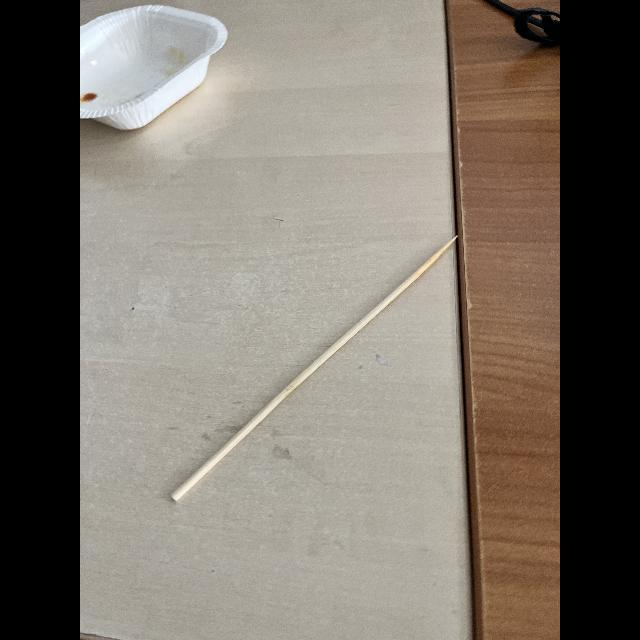cardboard_bowl: (80, 0, 244, 166)
stick: (155, 212, 471, 542)
